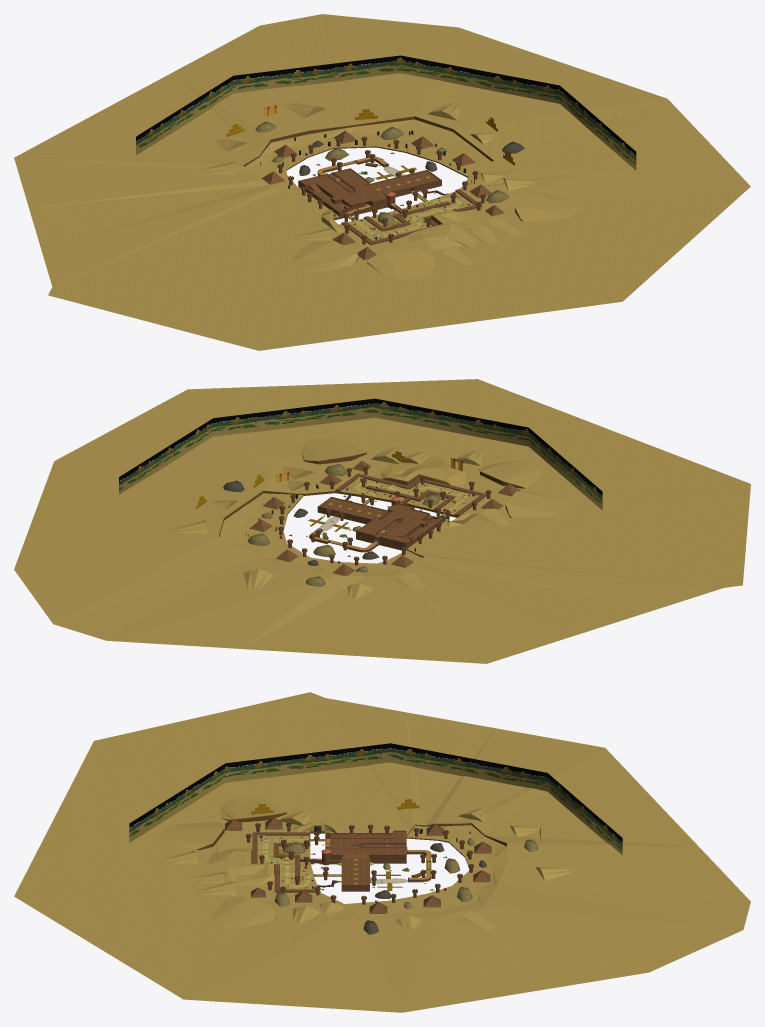
File: course.glb
3 views of the same model, one above another, from view 1: azimuth 30°, elevation 25°; view 2: azimuth 150°, elevation 25°; view 3: azimuth 270°, elevation 25° (orthographic). The views are drawn at different scales.
Visible parts, largest first — view 1: sandoffroad, Material3, wallgdf, Material2, Material1, wallll; view 2: sandoffroad, Material3, wallgdf, Material2, Material1, wallll; view 3: sandoffroad, Material3, wallgdf, Material2, wallll, Material1.
Boxes of the visible parts, x1,y1,x2,y2 form: sandoffroad: (14,14,750,350); Material3: (136,55,636,170); wallgdf: (262,130,504,260); Material2: (300,169,439,212); Material1: (243,116,522,262); wallll: (255,121,509,225); sandoffroad: (14,379,750,663); Material3: (119,398,602,510); wallgdf: (249,461,520,575); Material2: (320,498,443,542); Material1: (218,452,525,557); wallll: (247,464,440,586); sandoffroad: (14,692,750,1012); Material3: (129,743,622,854); wallgdf: (225,818,491,913); Material2: (325,831,405,885); wallll: (274,838,538,909); Material1: (196,812,506,919).
Bounding box in the file's own units: 600 × 19.59 × 583.
Materials: 64 (64 with a texture image).
